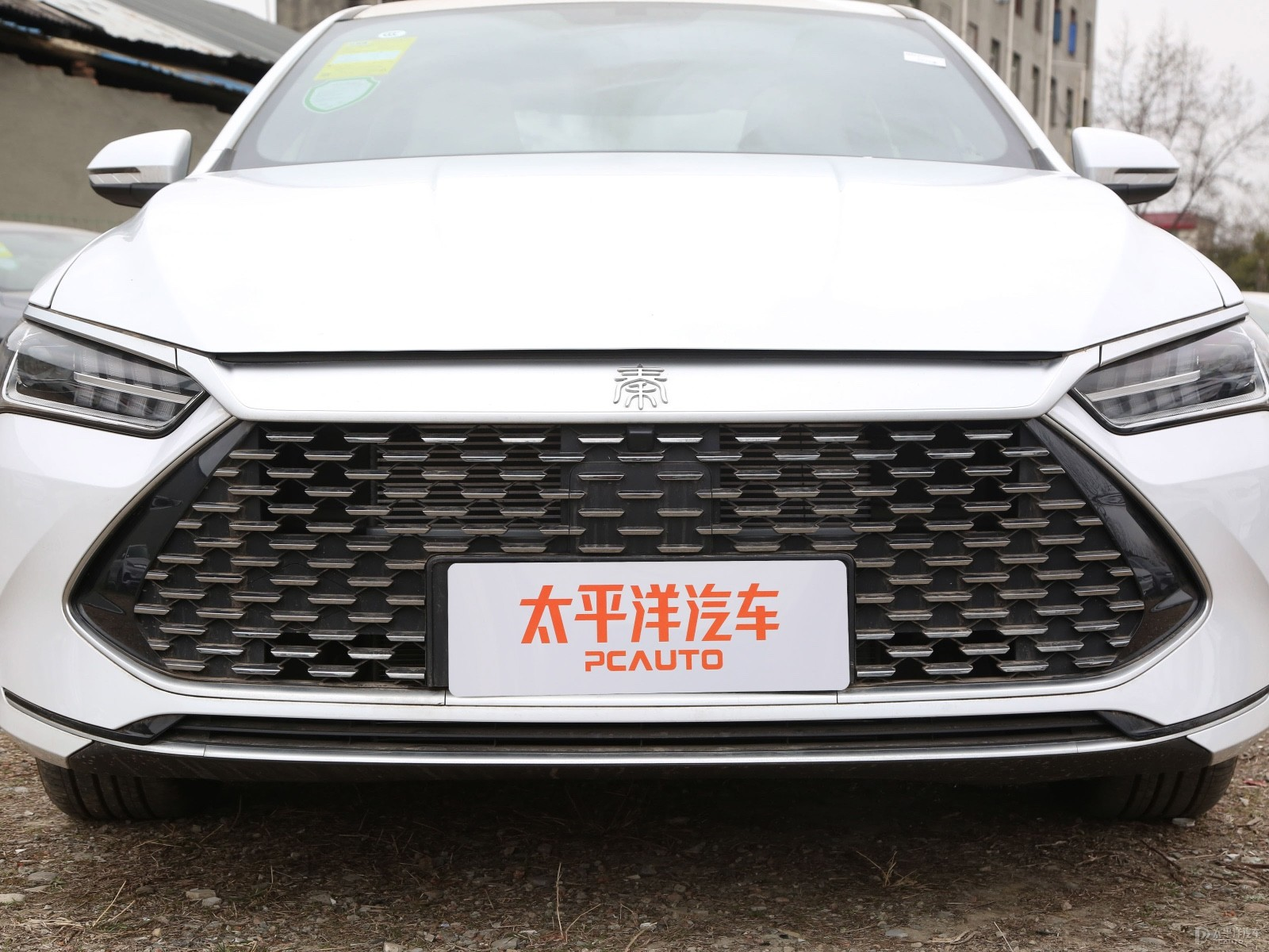BYD Qin: (614, 365, 667, 409)
